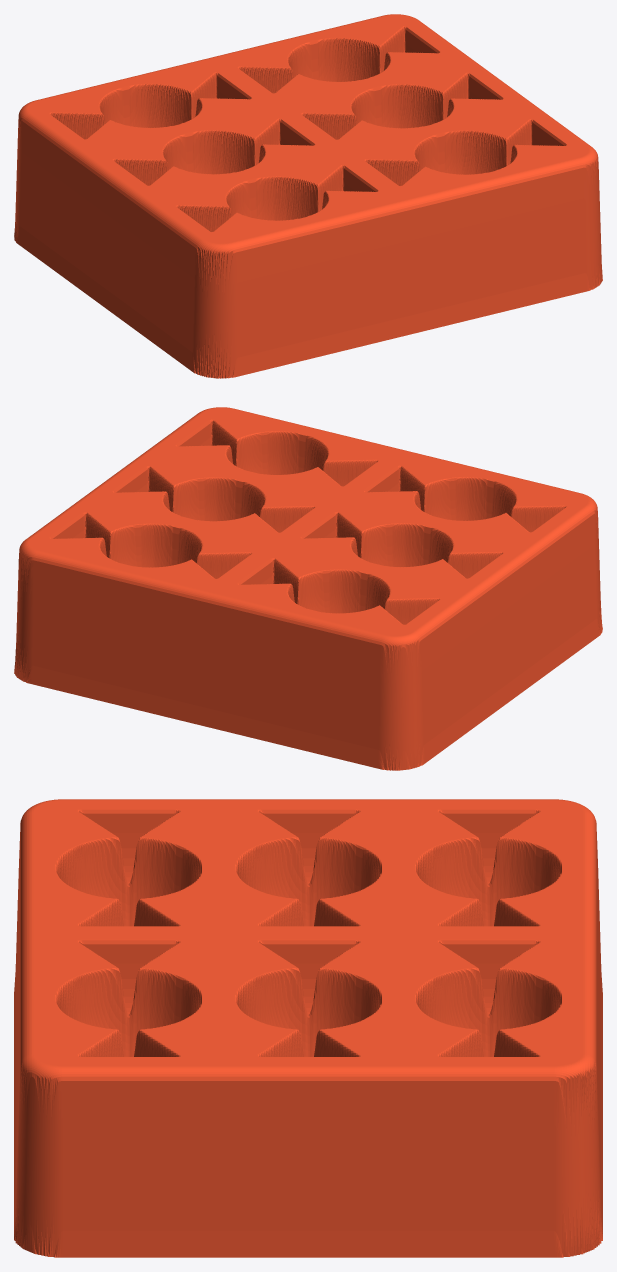
The model's file is mold.glb.
The picture shows the model from 3 angles, top to bottom: view 1: azimuth 30°, elevation 25°; view 2: azimuth 150°, elevation 25°; view 3: azimuth 270°, elevation 25°; orthographic projection. The views are drawn at different scales.
Visible parts, largest first — view 1: geometry_0; view 2: geometry_0; view 3: geometry_0.
Part boxes in pixels (box(x1,y1,x2,y2)): geometry_0: box(14, 14, 602, 378); geometry_0: box(14, 407, 602, 770); geometry_0: box(14, 799, 602, 1257).
Size of the model in its own units: 0.1246 by 0.0377 by 0.11.
